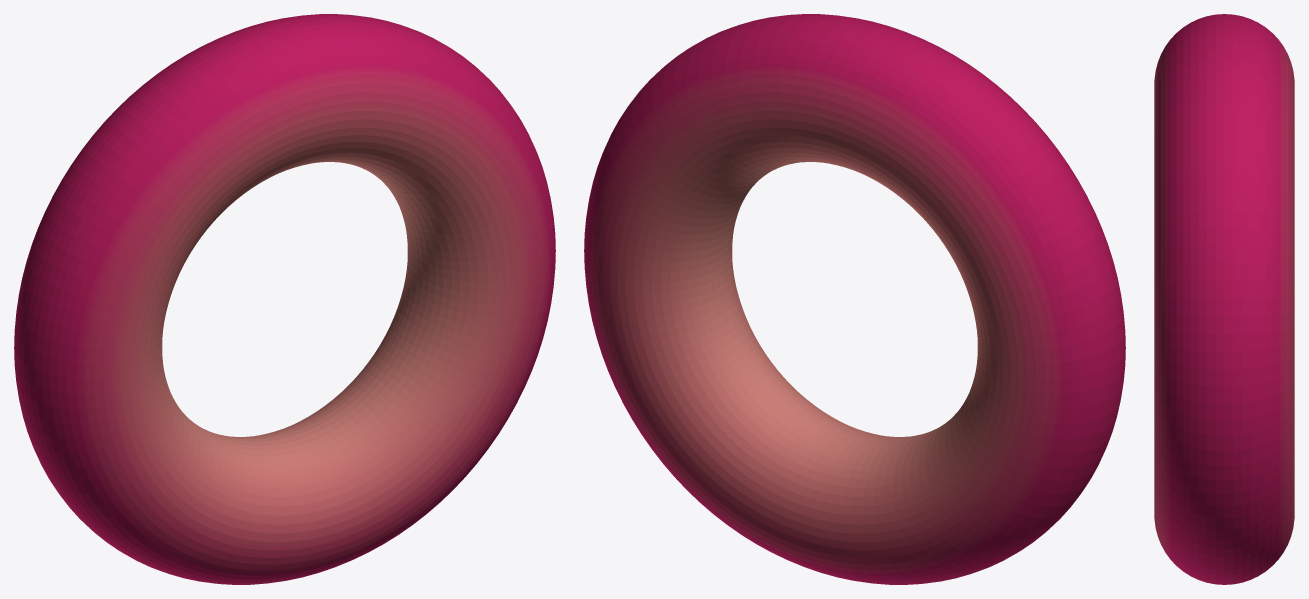
3 renders of one model, left to right at view 1: azimuth 30°, elevation 25°; view 2: azimuth 150°, elevation 25°; view 3: azimuth 270°, elevation 25°, orthographic. The views are drawn at different scales.
Parts seen in each view (by area): view 1: world; view 2: world; view 3: world.
Part boxes in pixels (x1=…): world: x1=14, y1=14, x2=555, y2=584; world: x1=584, y1=14, x2=1125, y2=584; world: x1=1154, y1=14, x2=1294, y2=584.
Size of the model in its own units: 30.93 by 30.93 by 7.59.
